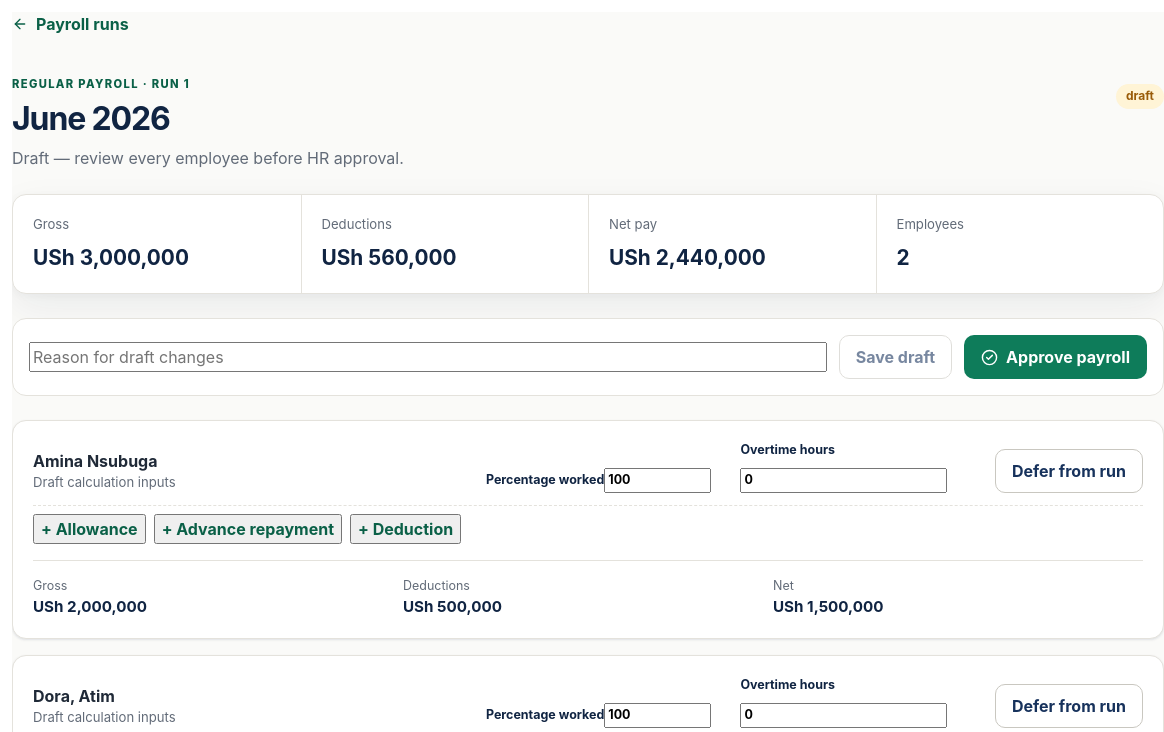
Test: blocks approval while draft edits are unsaved and visibly defers employees
Replace the text in the number field named "percentage worked for amina" with "75" at [658, 481], box [604,468,711,493]
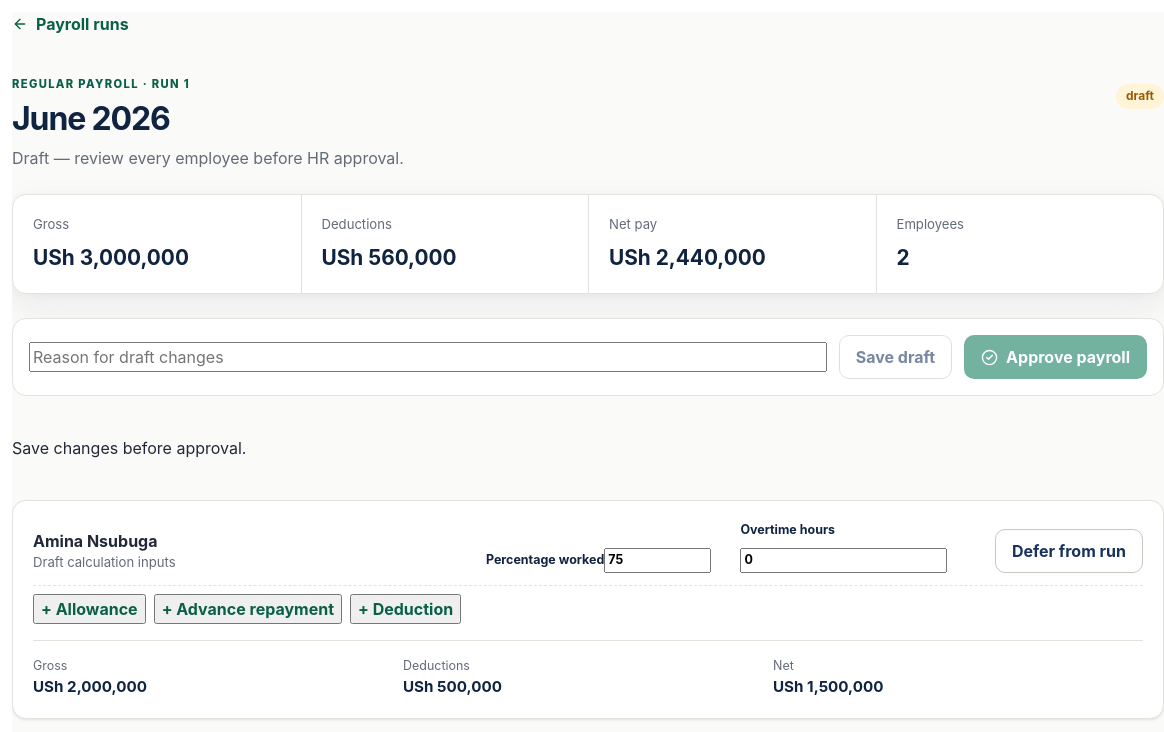
Result: the button "Approve payroll" is disabled at [964,336,1147,380]
Result: the text "Save changes before approval." is shown at [12,438,246,458]
Click the button with aria-label "defer amina" at [1069, 551], box [995,529,1143,573]
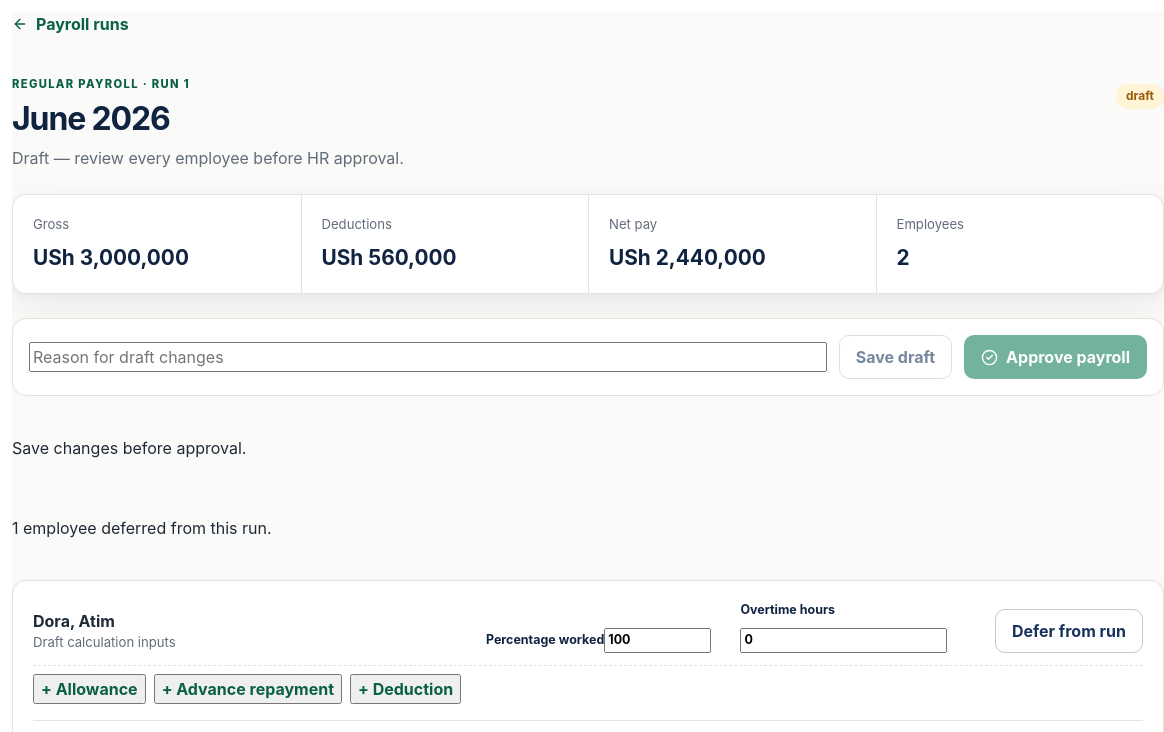
Result: the text "Amina Nsubuga" is gone
Result: the text "1 employee deferred from this run." is shown at [12,518,272,538]
